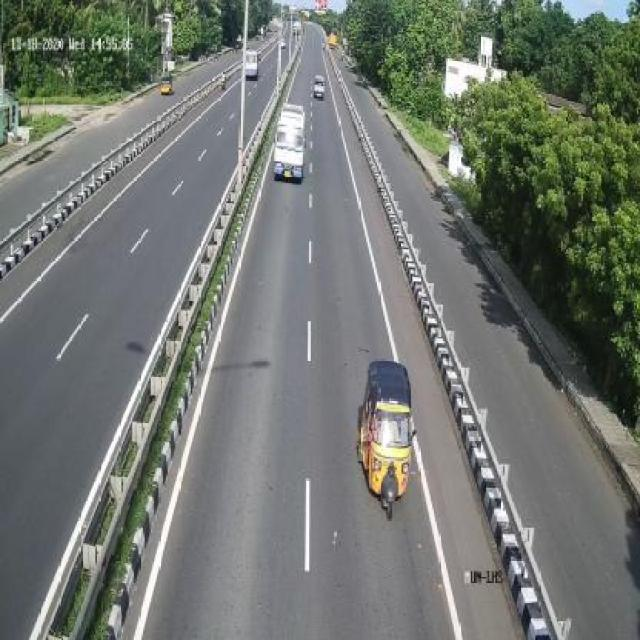car: (275, 103, 308, 188), (308, 71, 330, 103)
